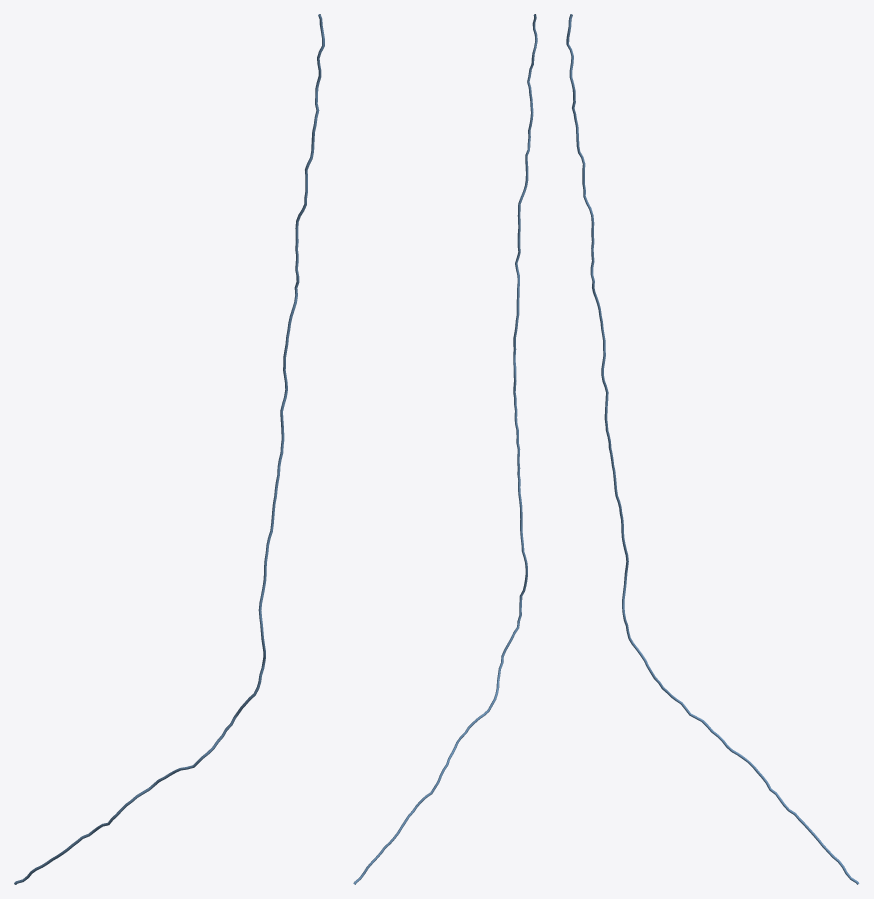
The model's file is sweep13.fbx.
3 views of the same model, side by side, from view 1: azimuth 90°, elevation 25°; view 2: azimuth 150°, elevation 25°; view 3: azimuth 270°, elevation 25° (orthographic). The views are drawn at different scales.
Parts seen in each view (by area): view 1: sweep13; view 2: sweep13; view 3: sweep13.
Boxes of the visible parts, <box> form: sweep13: <box>14,14,324,884</box>; sweep13: <box>353,14,537,884</box>; sweep13: <box>566,14,859,884</box>.
Size of the model in its own units: 0.5982 by 6.74 by 2.12.
